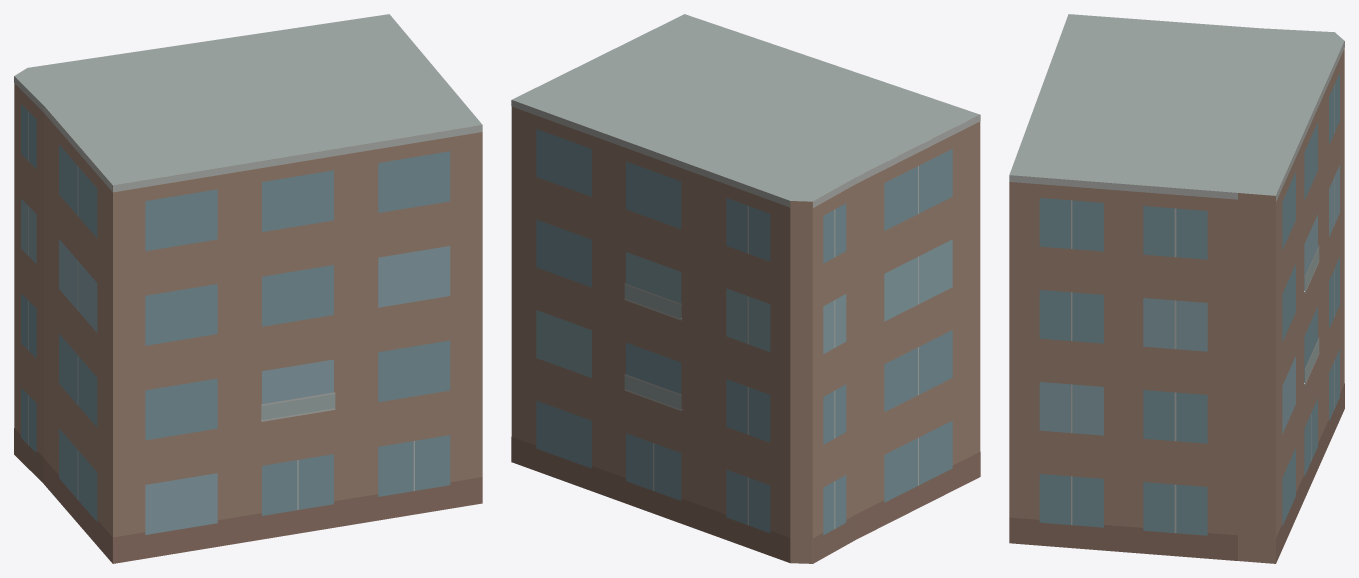
File: survey-upis-32813905.glb
3 renders of one model, left to right at view 1: azimuth 30°, elevation 25°; view 2: azimuth 150°, elevation 25°; view 3: azimuth 270°, elevation 25°, orthographic. The views are drawn at different scales.
Parts seen in each view (by area): view 1: survey-upis-32813905.tmp; view 2: survey-upis-32813905.tmp; view 3: survey-upis-32813905.tmp.
Boxes of the visible parts, x1,y1,x2,y2 form: survey-upis-32813905.tmp: (14,14,482,563); survey-upis-32813905.tmp: (511,14,980,563); survey-upis-32813905.tmp: (1009,14,1344,563).
Bounding box in the file's own units: 14.08 × 13.28 × 10.98.
